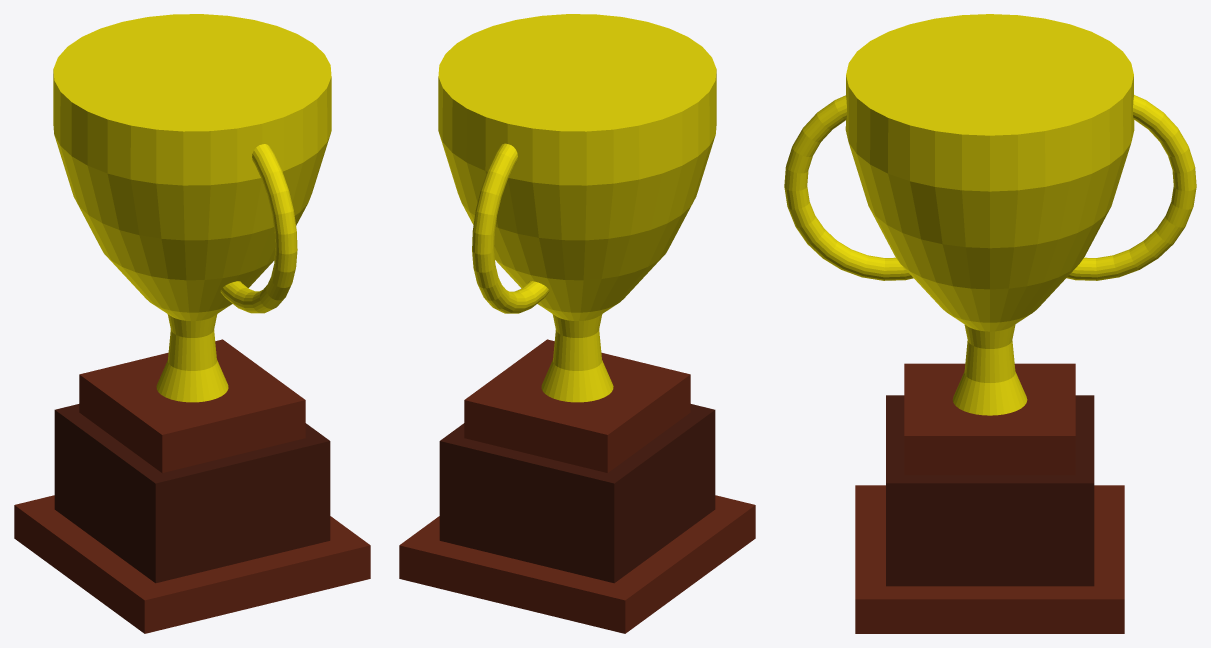
Rendered from trophy.fbx.
The picture shows the model from 3 angles, left to right: view 1: azimuth 30°, elevation 25°; view 2: azimuth 150°, elevation 25°; view 3: azimuth 270°, elevation 25°; orthographic projection. The views are drawn at different scales.
Parts seen in each view (by area): view 1: Cube; view 2: Cube; view 3: Cube.
Part boxes in pixels (x1=…): Cube: x1=14, y1=14, x2=370, y2=633; Cube: x1=399, y1=14, x2=755, y2=633; Cube: x1=784, y1=14, x2=1196, y2=633.
Size of the model in its own units: 256 by 492 by 366.
